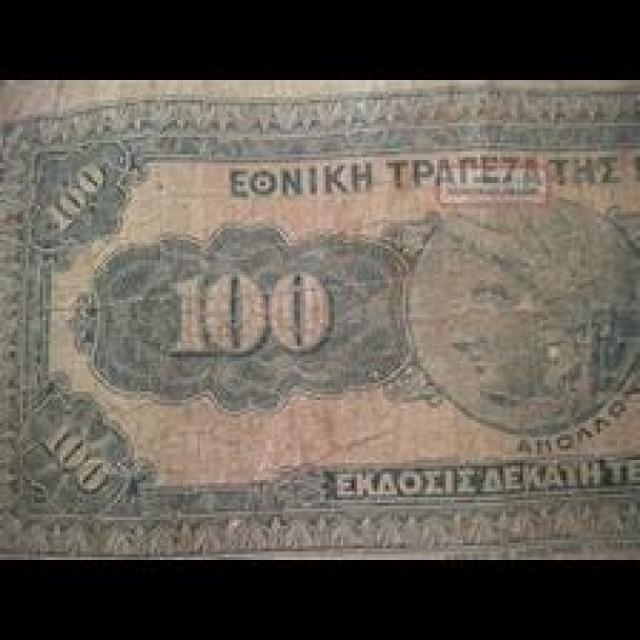banknote: (0, 77, 637, 559), (172, 265, 346, 375), (29, 134, 121, 247), (29, 409, 143, 500)
